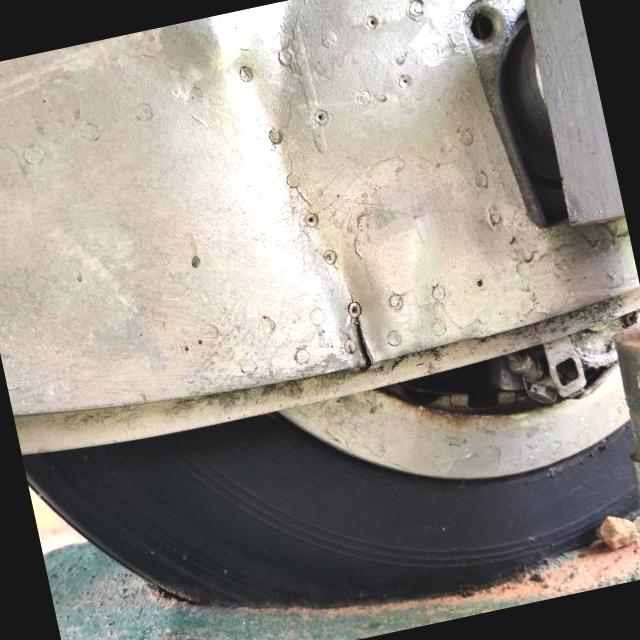crack: (336, 302, 397, 376)
